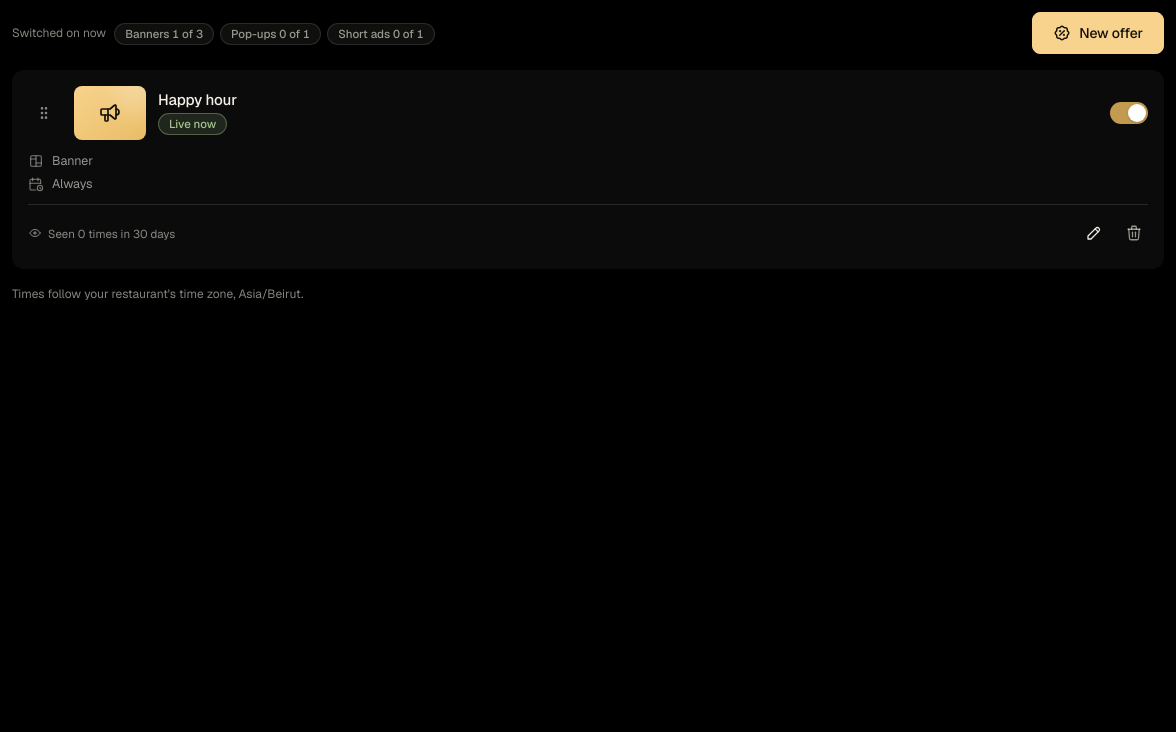
OffersPage › puts the switch back when pausing fails
Click the switch named "Show Happy hour on the menu" at point(1129, 113), box [1110,102,1148,124]
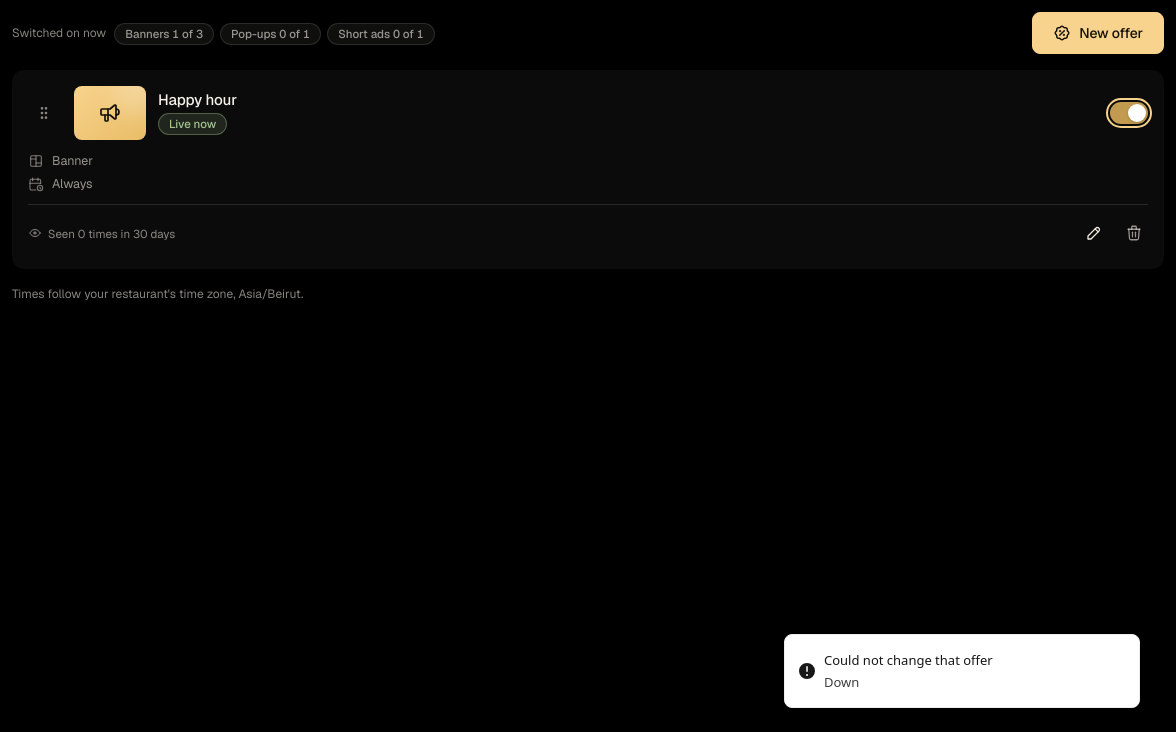
Now the text "Could not change that offer" is shown, box [824,651,993,671]
